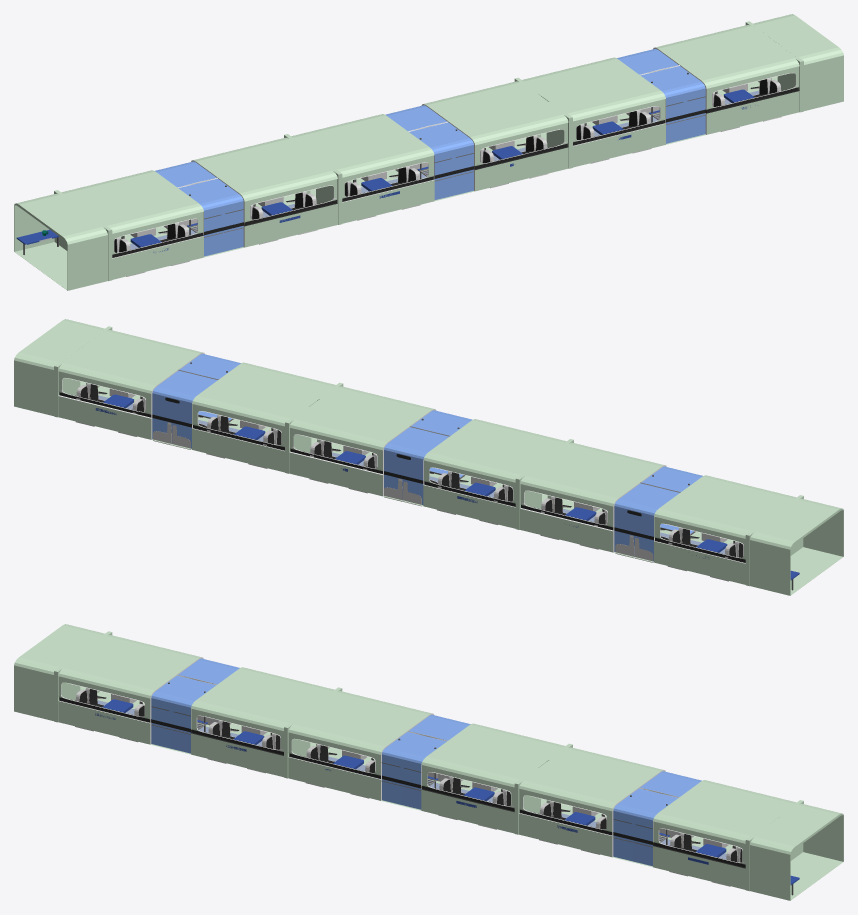
File: sm_train.fbx
3 renders of one model, top to bottom at view 1: azimuth 30°, elevation 25°; view 2: azimuth 150°, elevation 25°; view 3: azimuth 330°, elevation 25°, orthographic.
Parts seen in each view (by area): view 1: Carriage A, Carriage B, Carriage C, End, Start, Carriage A Chair, Carriage B Chair, Carriage C Chair, Carriage A Connector, Carriage B Connector; view 2: Carriage A, Carriage B, Carriage C, End, Start, Carriage B Chair, Carriage C Chair, Carriage A Chair, Carriage A Connector, Carriage B Connector; view 3: Carriage B, Carriage A, Carriage C, Start, End, Carriage C Chair, Carriage B Chair, Carriage A Chair, Carriage A Connector, Carriage B Connector.
Part boxes in pixels (x1,y1,x2,y2): Carriage A: (522,25,799,167); Carriage B: (291,81,568,223); Carriage C: (60,137,337,279); End: (14,190,112,290); Start: (745,14,843,112); Carriage A Chair: (576,78,781,163); Carriage B Chair: (345,135,547,220); Carriage C Chair: (114,191,317,276); Carriage A Connector: (514,77,572,168); Carriage B Connector: (284,134,342,224); Carriage A: (58,330,335,472); Carriage B: (289,386,566,528); Carriage C: (520,442,797,584); End: (745,495,843,595); Start: (14,319,112,417); Carriage B Chair: (309,440,512,524); Carriage C Chair: (540,496,743,581); Carriage A Chair: (76,383,281,468); Carriage A Connector: (285,382,343,473); Carriage B Connector: (515,439,573,529); Carriage B: (288,691,564,833); Carriage A: (519,747,796,889); Carriage C: (58,635,334,777); Start: (745,800,843,900); End: (14,624,112,722); Carriage C Chair: (75,688,280,773); Carriage B Chair: (306,744,510,829); Carriage A Chair: (539,801,742,886); Carriage A Connector: (514,743,572,834); Carriage B Connector: (284,687,342,778).
Size of the model in its own units: 33.53 by 2.15 by 4.07.
